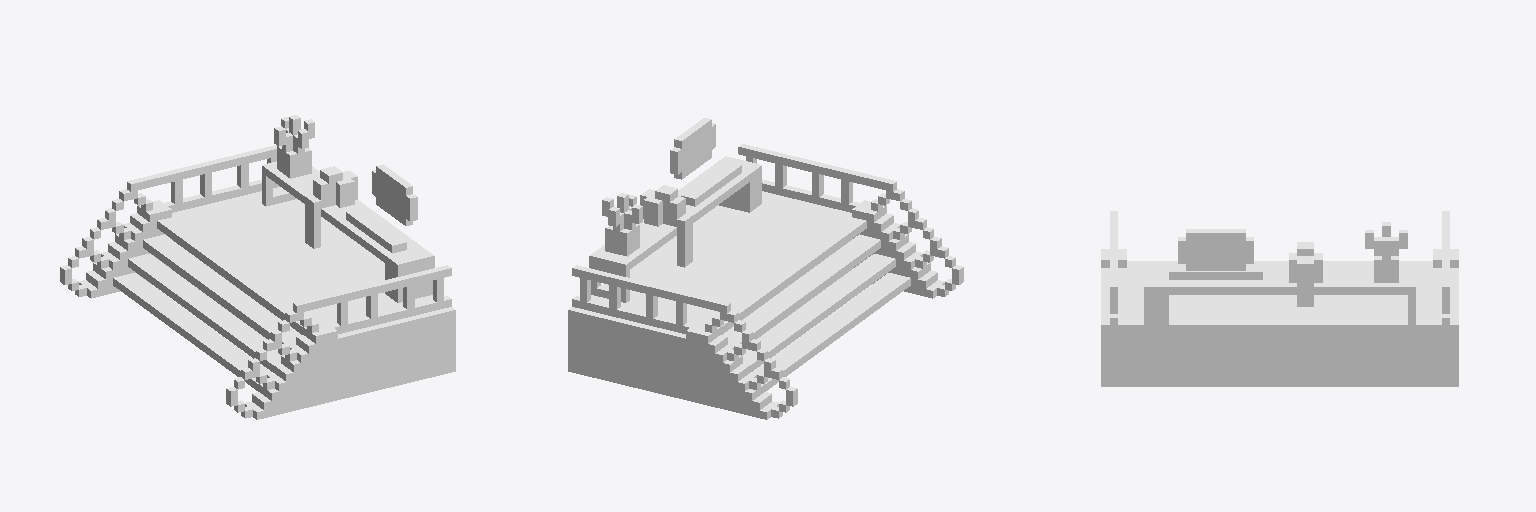
The model's file is stage.obj.
3 views of the same model, side by side, from view 1: azimuth 30°, elevation 25°; view 2: azimuth 150°, elevation 25°; view 3: azimuth 270°, elevation 25° (orthographic).
Visible parts, largest first — view 1: object 1; view 2: object 1; view 3: object 1.
Boxes of the visible parts, x1=… form: object 1: x1=60, y1=115, x2=455, y2=419; object 1: x1=568, y1=118, x2=963, y2=419; object 1: x1=1101, y1=211, x2=1458, y2=386.
Size of the model in its own units: 3 by 2 by 4.2.